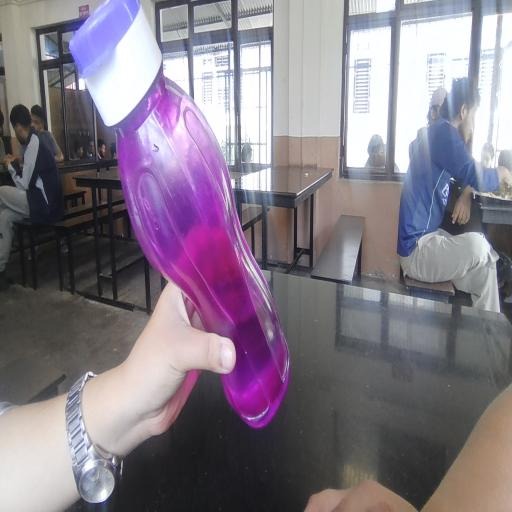Bottle: (61, 16, 328, 412)
